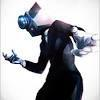no more kid: (17, 1, 54, 36)
